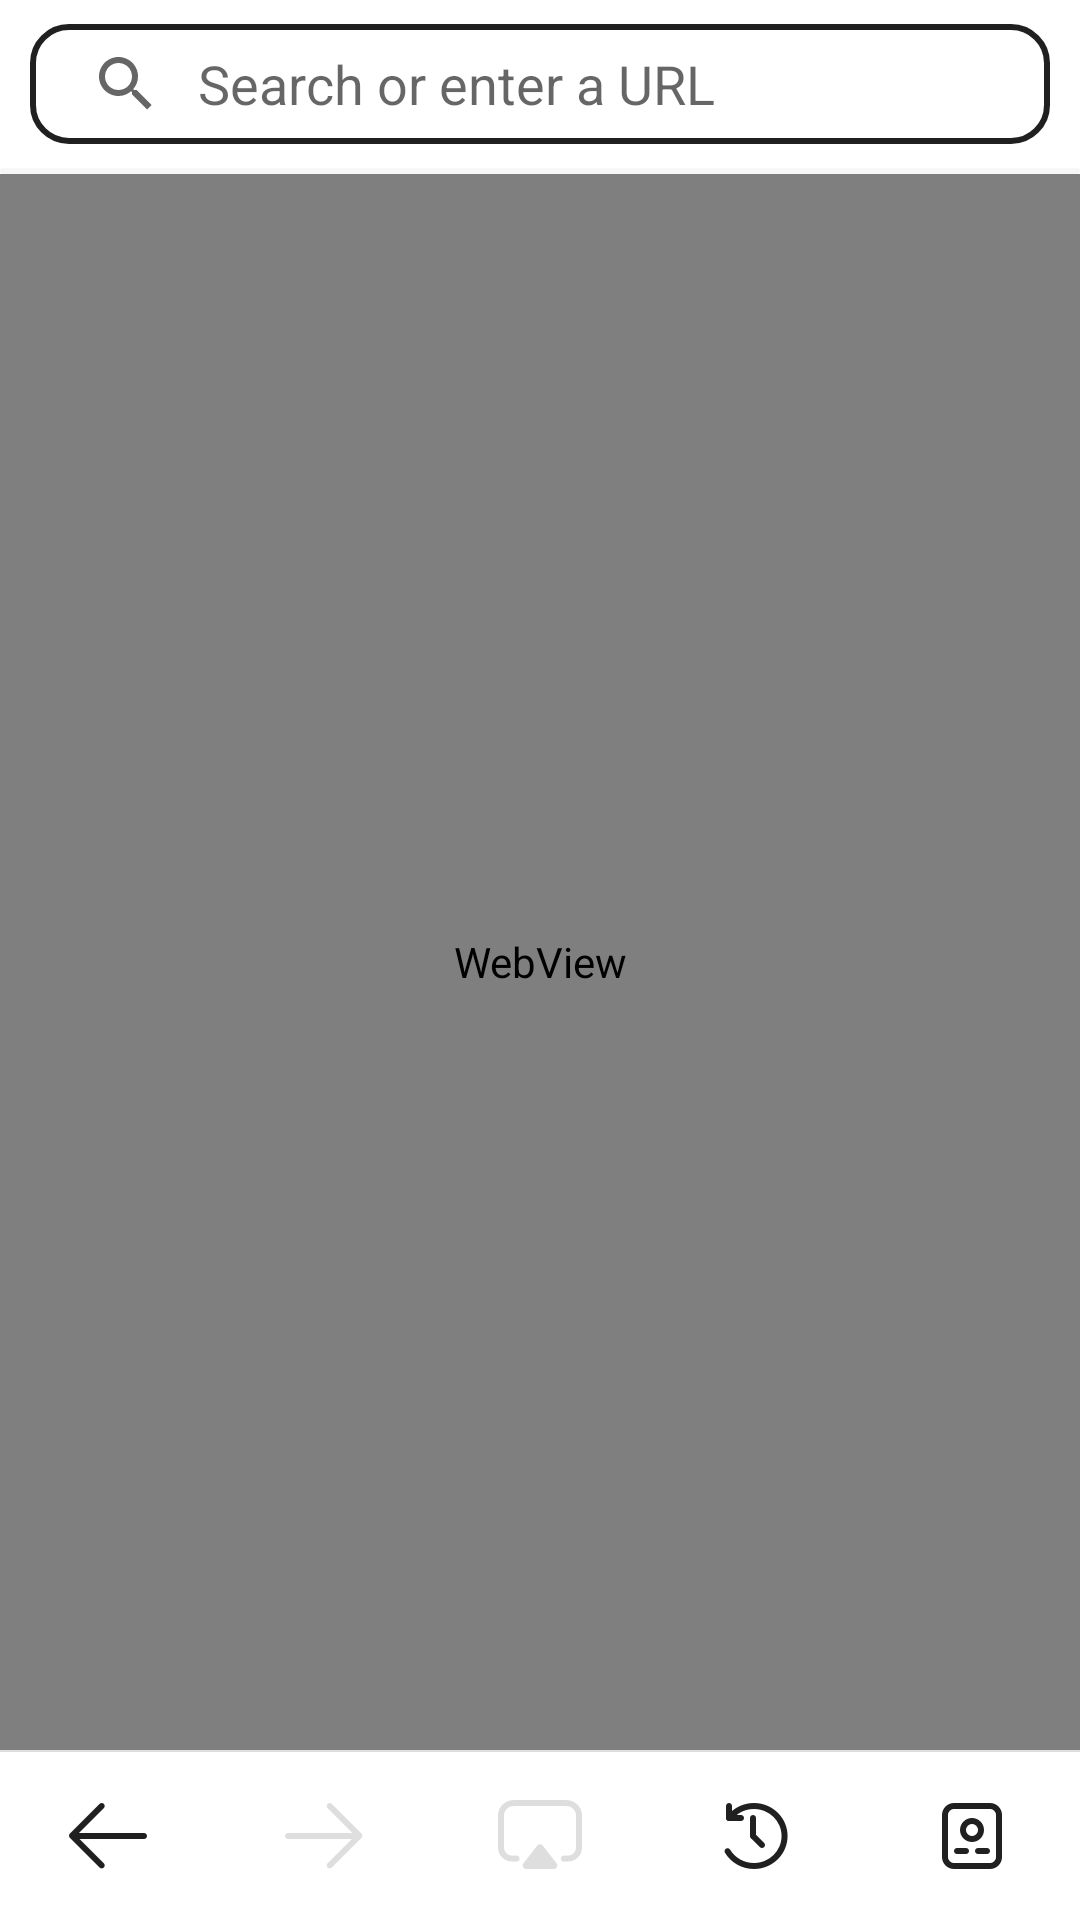

Icons on this 1080px×1920px Android screen, each with the point to tap as point (x, y):
back lighted browser cast: point (108, 1836)
cast unlighted browser: point (540, 1834)
forward unlighted browser cast: point (323, 1835)
history browser cast: point (756, 1836)
remote browser cast: point (972, 1836)
